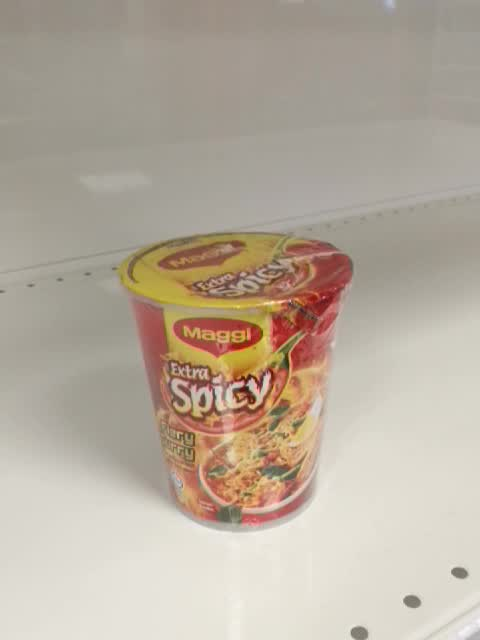maggi: (119, 231, 355, 534)
